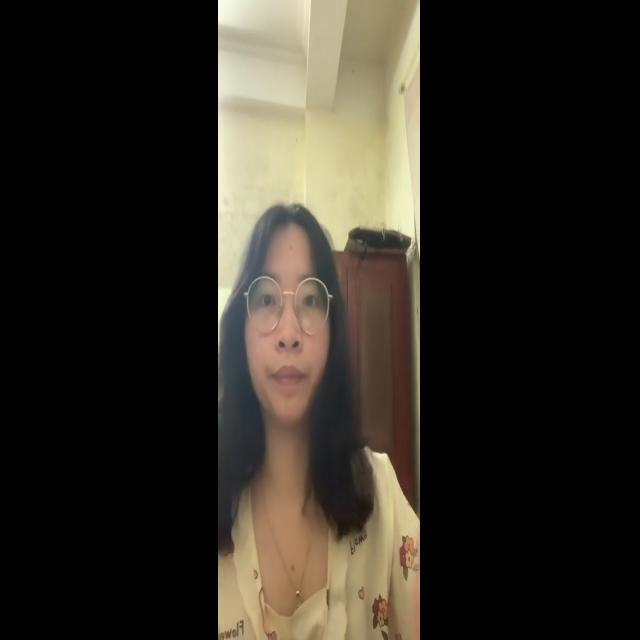student: (223, 193, 399, 640)
